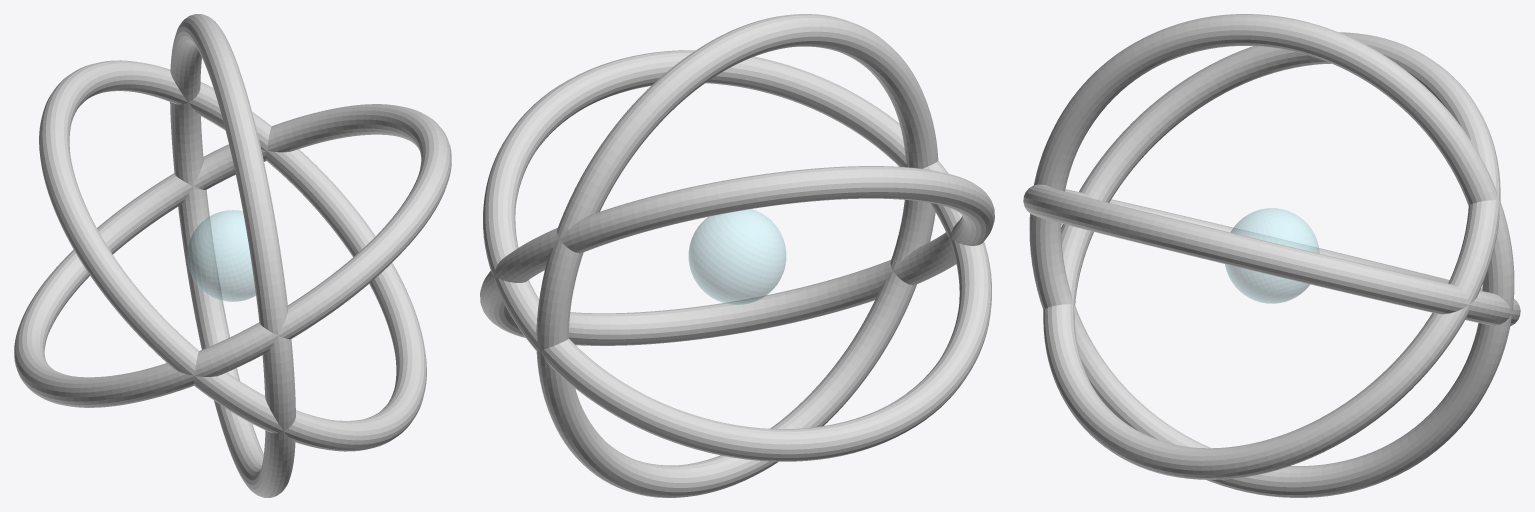
Rendered from atom_1.glb.
The picture shows the model from 3 angles, left to right: view 1: azimuth 30°, elevation 25°; view 2: azimuth 150°, elevation 25°; view 3: azimuth 270°, elevation 25°; orthographic projection. The views are drawn at different scales.
Visible parts, largest first — view 1: Circle010; view 2: Circle010; view 3: Circle010.
Boxes of the visible parts, bbox=[...] form: Circle010: bbox=[14, 14, 451, 497]; Circle010: bbox=[480, 14, 994, 497]; Circle010: bbox=[1023, 14, 1520, 497].
Size of the model in its own units: 186 by 201 by 197.
